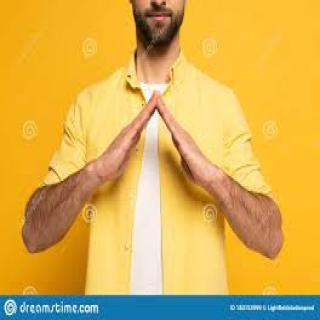House: (107, 80, 224, 203)
